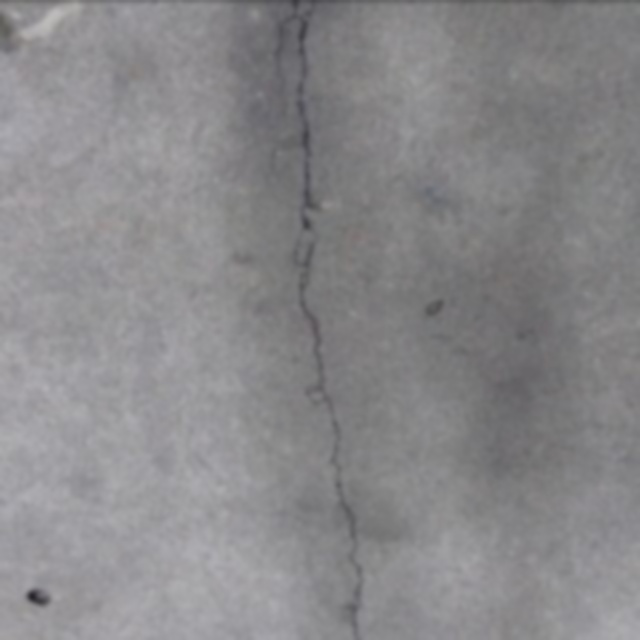SurfaceCrack: (248, 2, 390, 640)
